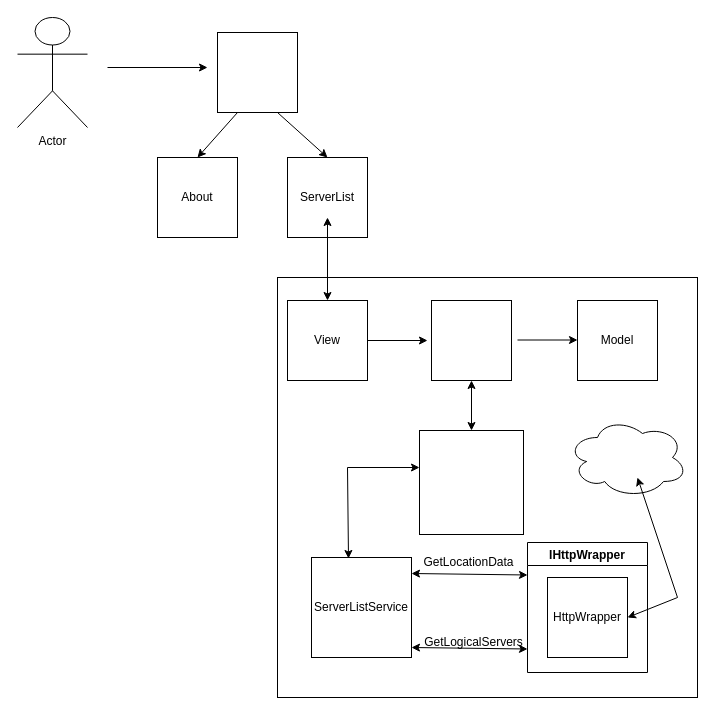
This 715x715 diagram has some shape labels left out. The shapes that lost their labels are listed below. From the top down, each one's box as (x1, y1, x2, y2) in pixels, then its label:
(216, 32, 298, 112): AppShell
(430, 300, 512, 380): ViewModel
(566, 416, 688, 498): protonvpn or cache
(418, 430, 524, 534): ViewModelService
